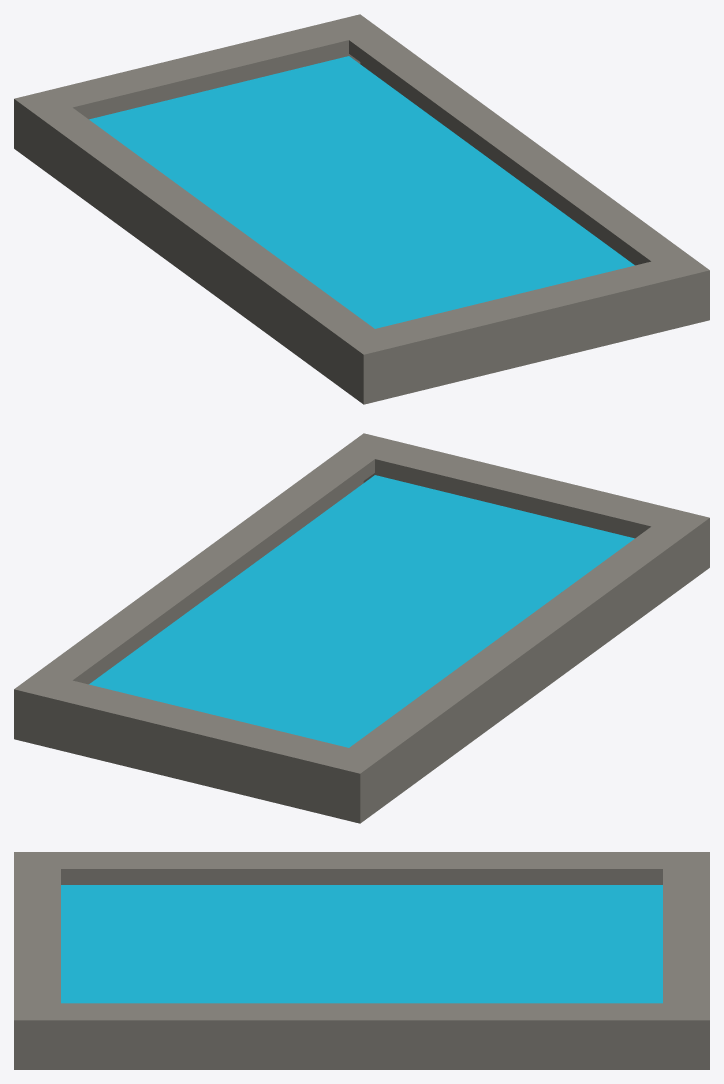
File: CM_HorizontalScanner.fbx
3 views of the same model, one above another, from view 1: azimuth 30°, elevation 25°; view 2: azimuth 150°, elevation 25°; view 3: azimuth 270°, elevation 25° (orthographic).
Visible parts, largest first — view 1: Frame.001, Scanner.001; view 2: Frame.001, Scanner.001; view 3: Frame.001, Scanner.001.
Part boxes in pixels (<box>): Frame.001: <box>14,14,709,404</box>; Scanner.001: <box>89,56,634,328</box>; Frame.001: <box>14,433,709,823</box>; Scanner.001: <box>89,475,634,747</box>; Frame.001: <box>14,852,709,1069</box>; Scanner.001: <box>61,885,662,1003</box>.
Size of the model in its own units: 19.71 by 2.72 by 34.48.
